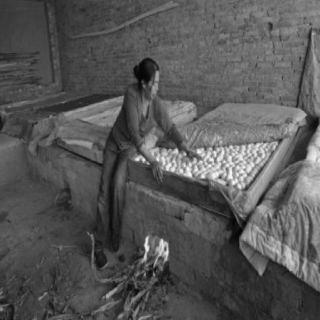Fire: (123, 211, 185, 277)
